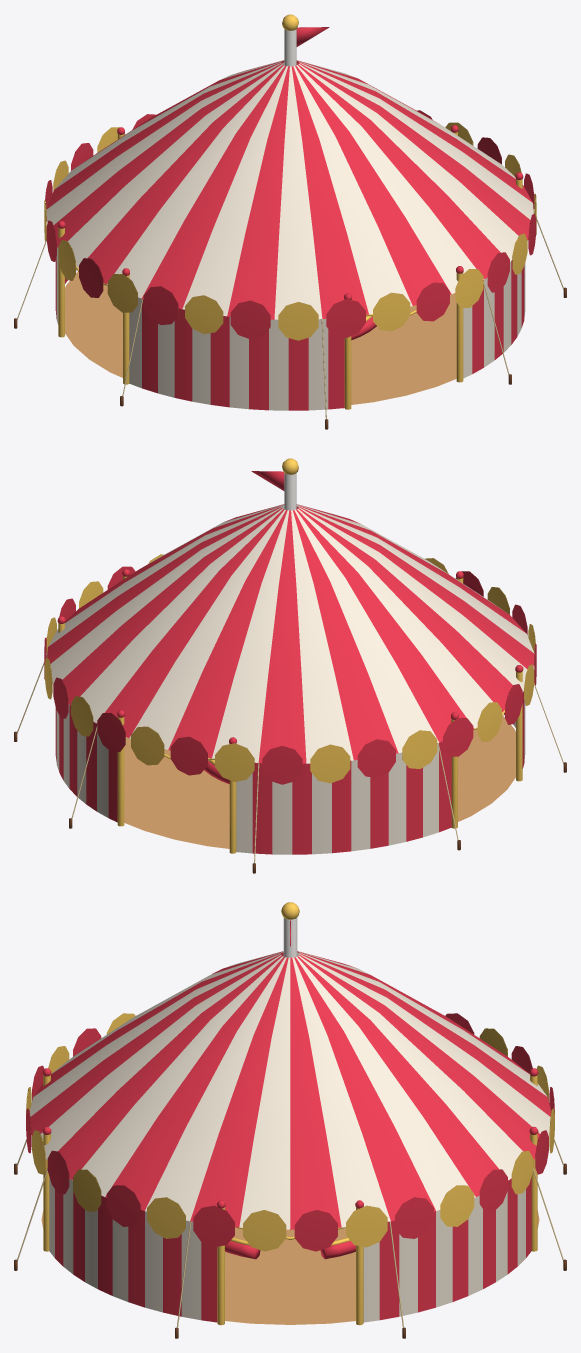
The model's file is sky_bigtop.glb.
3 views of the same model, one above another, from view 1: azimuth 30°, elevation 25°; view 2: azimuth 150°, elevation 25°; view 3: azimuth 270°, elevation 25° (orthographic). The views are drawn at different scales.
Visible parts, largest first — view 1: BigTop; view 2: BigTop; view 3: BigTop.
Part boxes in pixels (x1,y1,x2,y2): BigTop: (14,14,566,429); BigTop: (14,458,566,873); BigTop: (14,902,566,1338).
Size of the model in its own units: 20.63 by 13.15 by 20.65.
